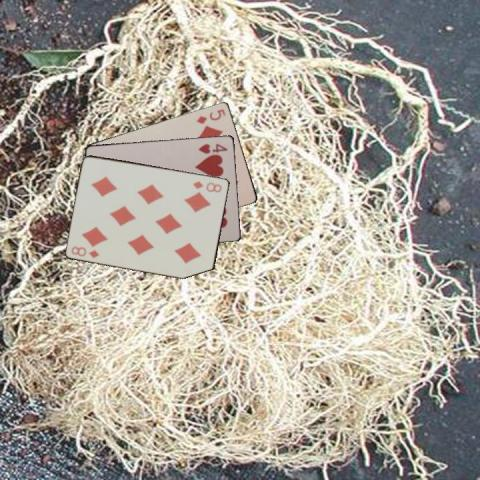4h: (196, 141, 229, 154)
5d: (194, 106, 228, 125)
8d: (190, 178, 223, 194), (69, 243, 100, 260)
